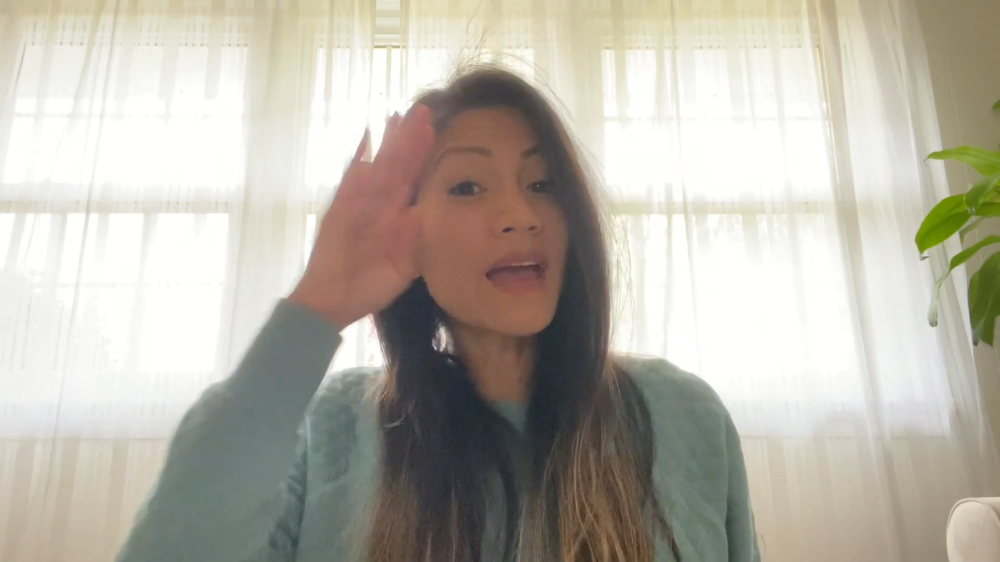hello: (304, 100, 444, 317)
